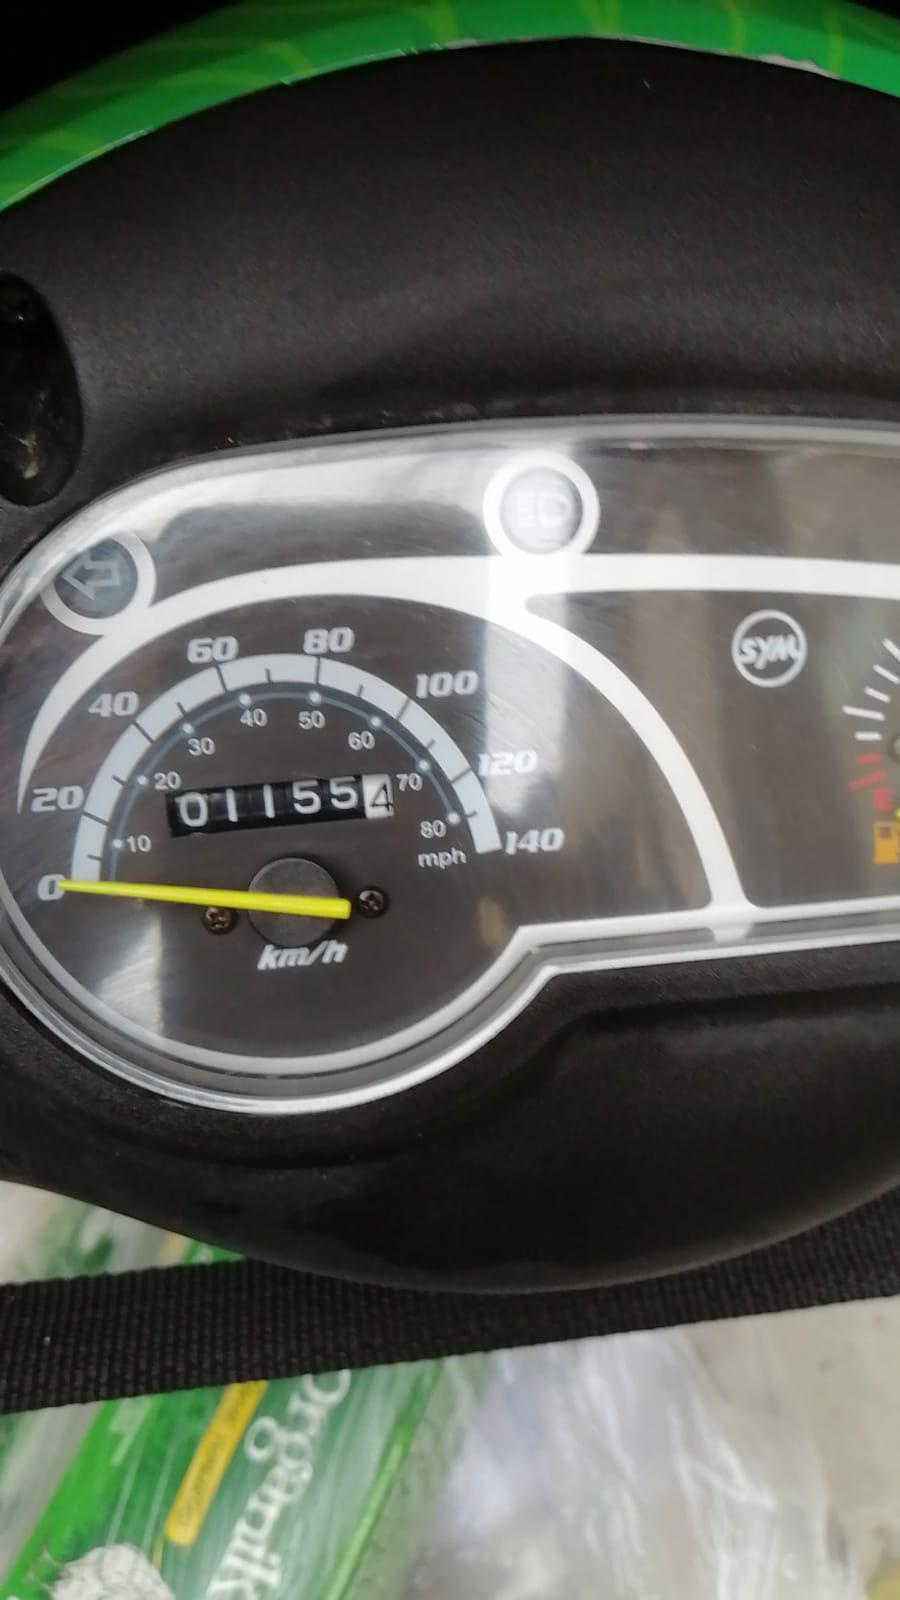0: (177, 790, 208, 827), (167, 770, 181, 789)
1: (258, 784, 279, 821), (221, 787, 242, 822)
2: (159, 773, 166, 791)
4: (365, 781, 395, 813)
5: (288, 778, 324, 816), (327, 775, 359, 810)
odometer: (160, 767, 400, 842)
